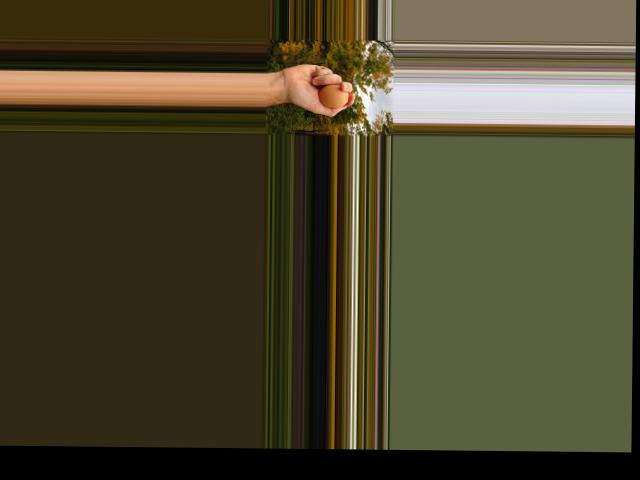egg: (319, 83, 348, 107)
